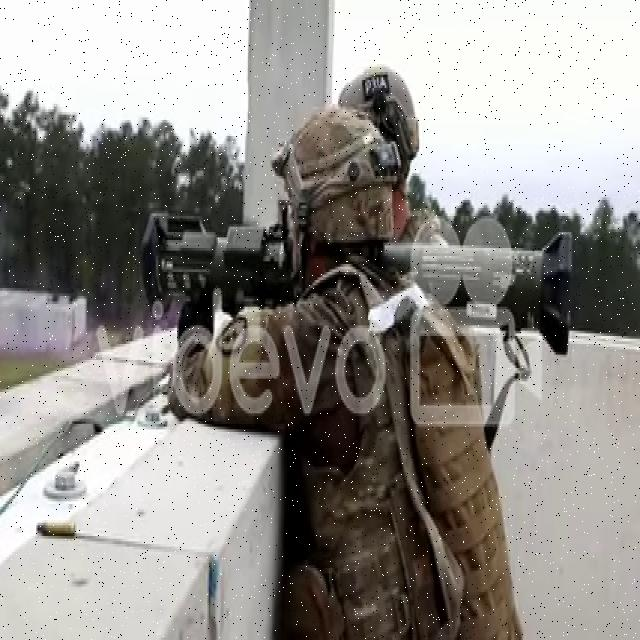bazooka: (141, 201, 577, 366)
